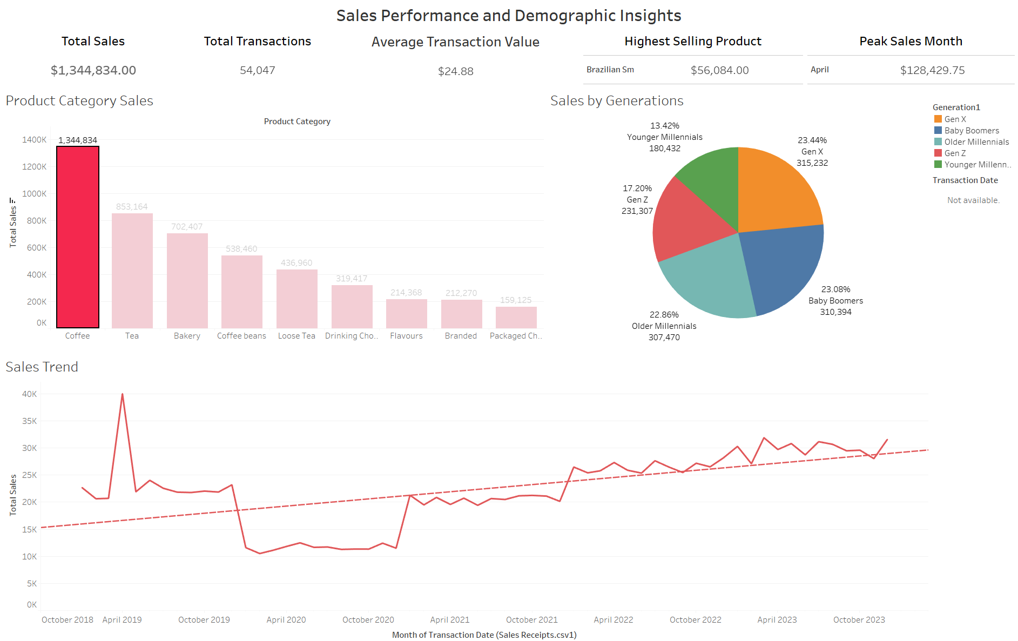

This screenshot's page, from the dashboard's own definition file:
{"tool":"tableau","page":{"name":"Sales Performance","canvas":[1000,1000],"units":"permille","ordinal":2},"visuals":[{"type":"title","box":[3.6,6.6,992.9,40.5]},{"type":"worksheet","title":"Total Sales KPI","mark":"Automatic","box":[3.6,47.1,180.1,90.1]},{"type":"worksheet","title":"Total Transactions KPI","mark":"Automatic","box":[183.7,47.1,141.3,90.1]},{"type":"worksheet","title":"Average Transaction Value","mark":"Automatic","box":[324.9,47.1,245.7,90.1]},{"type":"worksheet","title":"Highest Selling Product KPI","mark":"Automatic","rows":["Product"],"box":[570.6,47.1,218.9,90.1]},{"type":"worksheet","title":"Peak Sales Month KPI","mark":"Automatic","rows":["Transaction_Date (Sales Receipts.csv1)"],"box":[789.5,47.1,206.9,90.1]},{"type":"worksheet","title":"Product Category Sales","mark":"Automatic","rows":["Total Sales (Sales Receipts.csv1)"],"cols":["Product_Category"],"box":[3.6,137.2,540.4,406.7]},{"type":"worksheet","title":"Sales by Generations","mark":"Pie","box":[543.9,137.2,381.1,406.7]},{"type":"legend","title":"Product Category Sales","param":"[federated.08khc321xdyzkm114h3me09xxc6f].[sum:Calculation_2183682886249017345:qk","box":[925.1,137.2,71.4,19.8]},{"type":"legend","title":"Sales by Generations","param":"[federated.08khc321xdyzkm114h3me09xxc6f].[none:Generation:nk]","box":[925.1,157,71.4,111.5]},{"type":"filter","title":"Sales by Generations","param":"[federated.08khc321xdyzkm114h3me09xxc6f].[none:Transaction_Date:qk]","box":[925.1,268.5,71.4,24.8]},{"type":"worksheet","title":"Sales Trend","mark":"Automatic","rows":["Total Sales (Sales Receipts.csv1)"],"cols":["Transaction_Date (Sales Receipts.csv1)"],"box":[3.6,543.8,921.5,449.6]}]}

Visuals, with their boxes on the dashboard's canvas, which has no fixed pixel size, in thousandths of its width and height (x1, y1, x2, y2). These are canvas units, not pixel positions in the 1018x641 screenshot, which may show the page scaled, cropped or inside an application window:
title: 4,7,996,47
"Total Sales KPI" worksheet: 4,47,184,137
"Total Transactions KPI" worksheet: 184,47,325,137
"Average Transaction Value" worksheet: 325,47,571,137
"Highest Selling Product KPI" worksheet: 571,47,790,137
"Peak Sales Month KPI" worksheet: 790,47,996,137
"Product Category Sales" worksheet: 4,137,544,544
"Sales by Generations" worksheet (Pie marks): 544,137,925,544
"Product Category Sales" legend: 925,137,996,157
"Sales by Generations" legend: 925,157,996,268
"Sales by Generations" filter: 925,268,996,293
"Sales Trend" worksheet: 4,544,925,993
